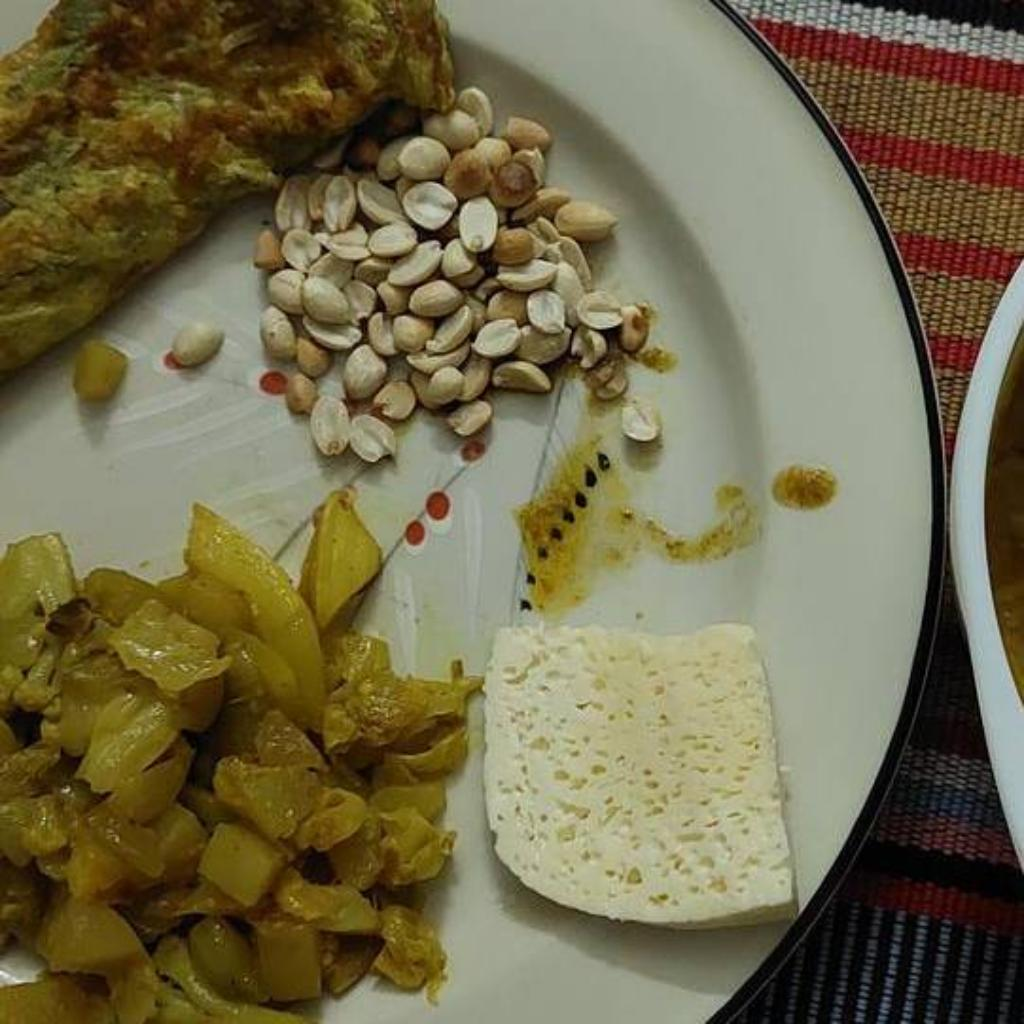badam: (257, 87, 659, 462), (168, 322, 223, 367)
egg-poached: (0, 0, 452, 375)
lau: (0, 500, 477, 1022)
vaji: (485, 623, 791, 926)
